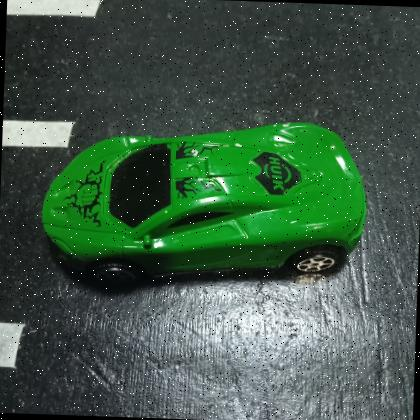Car: (41, 123, 367, 291)
